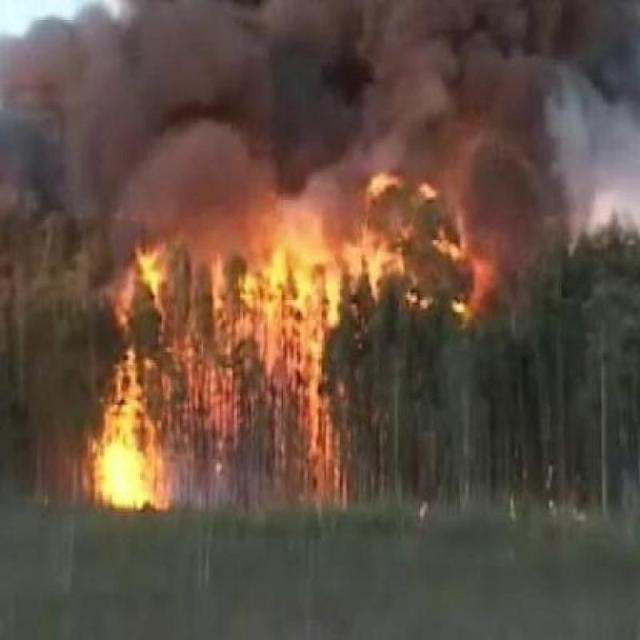Fire: (228, 302, 362, 516), (92, 338, 170, 537), (102, 248, 168, 326), (363, 225, 403, 298), (458, 262, 486, 321), (225, 292, 228, 302)
Smoke: (491, 145, 566, 320)
